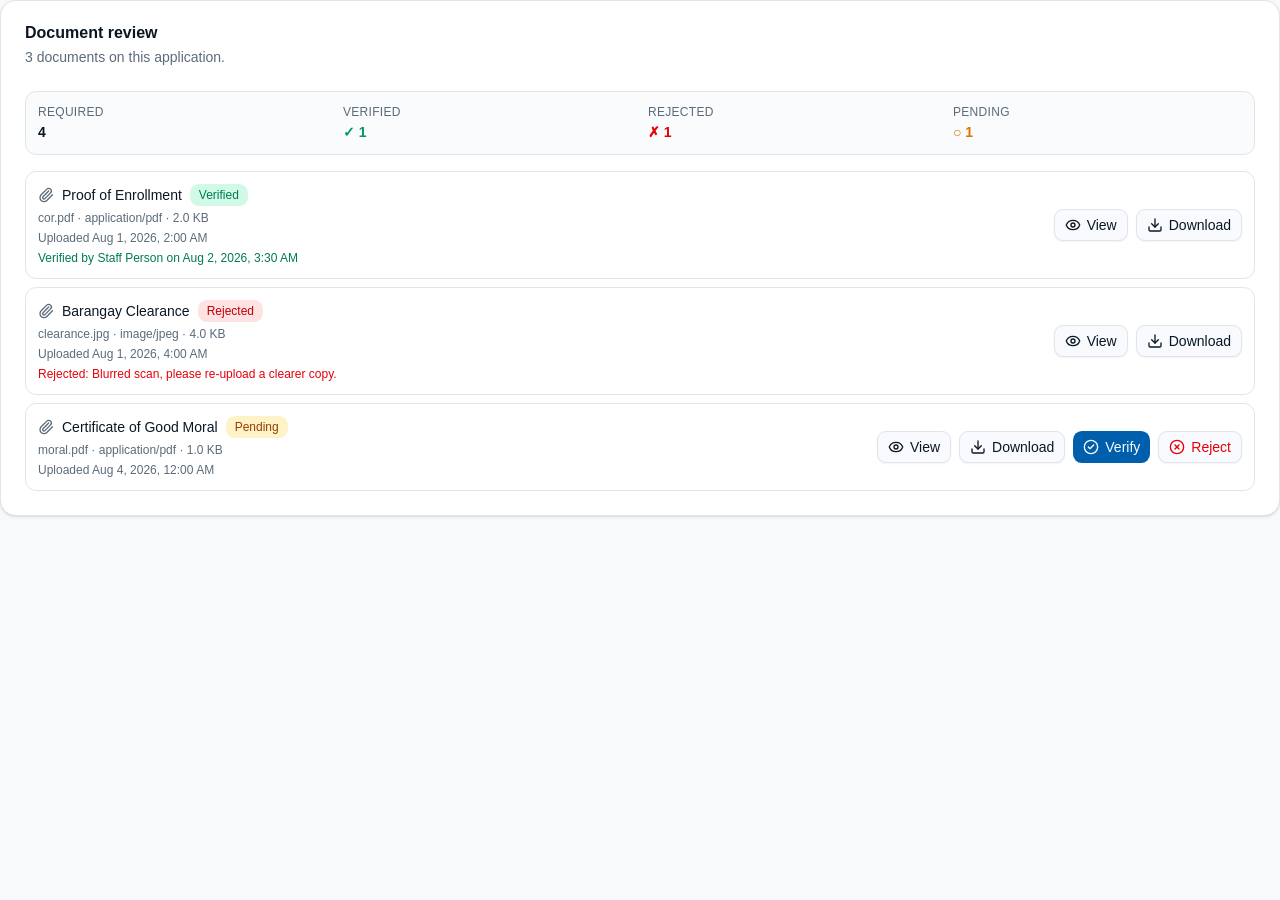
DocumentReview › verify flow › shows a failure message when the API errors
The image size is (1280, 900).
Click the button "Verify" at (1112,447), box 1073,431 -> 1150,463
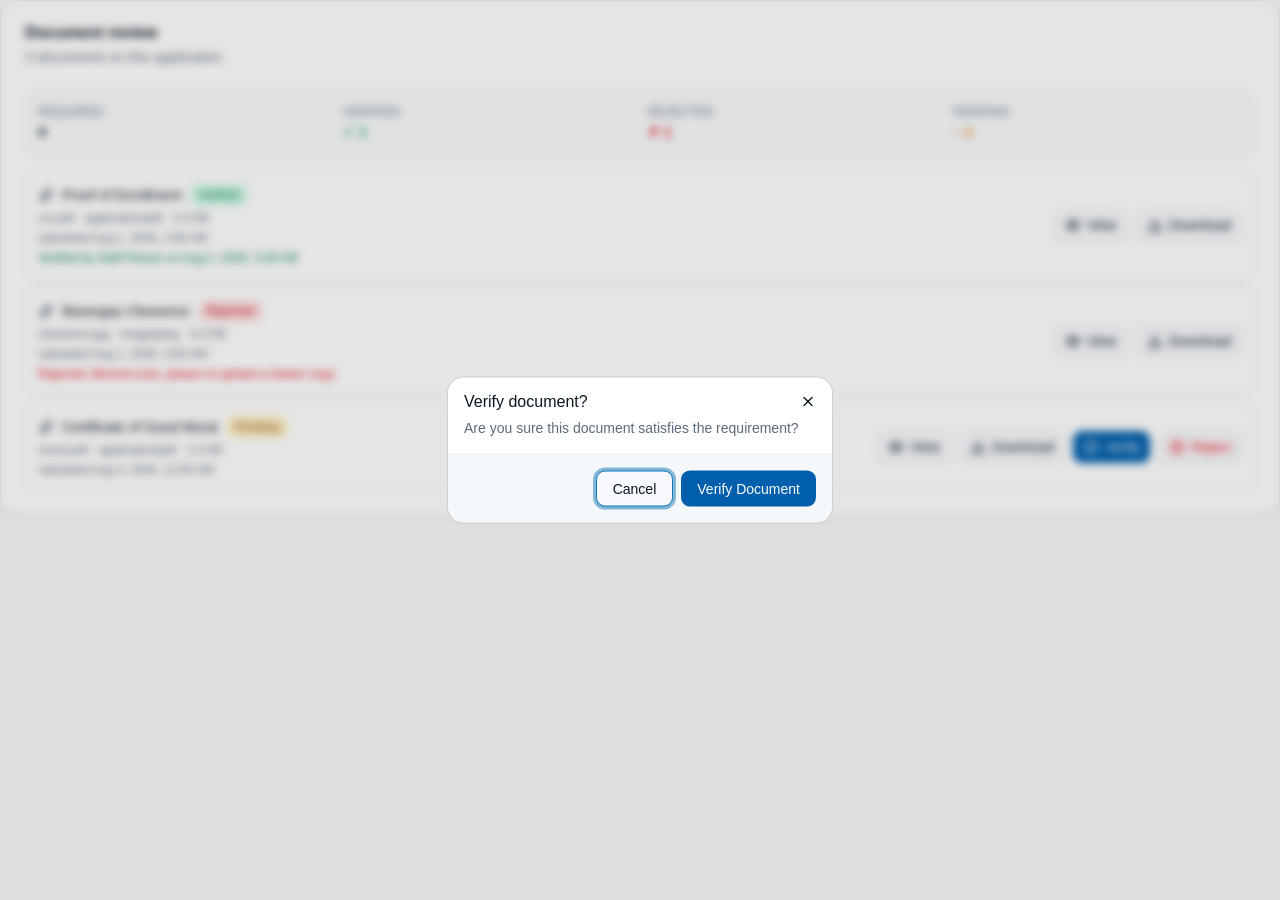
Click the button "Verify Document" at (749,488), box 681,470 -> 816,506
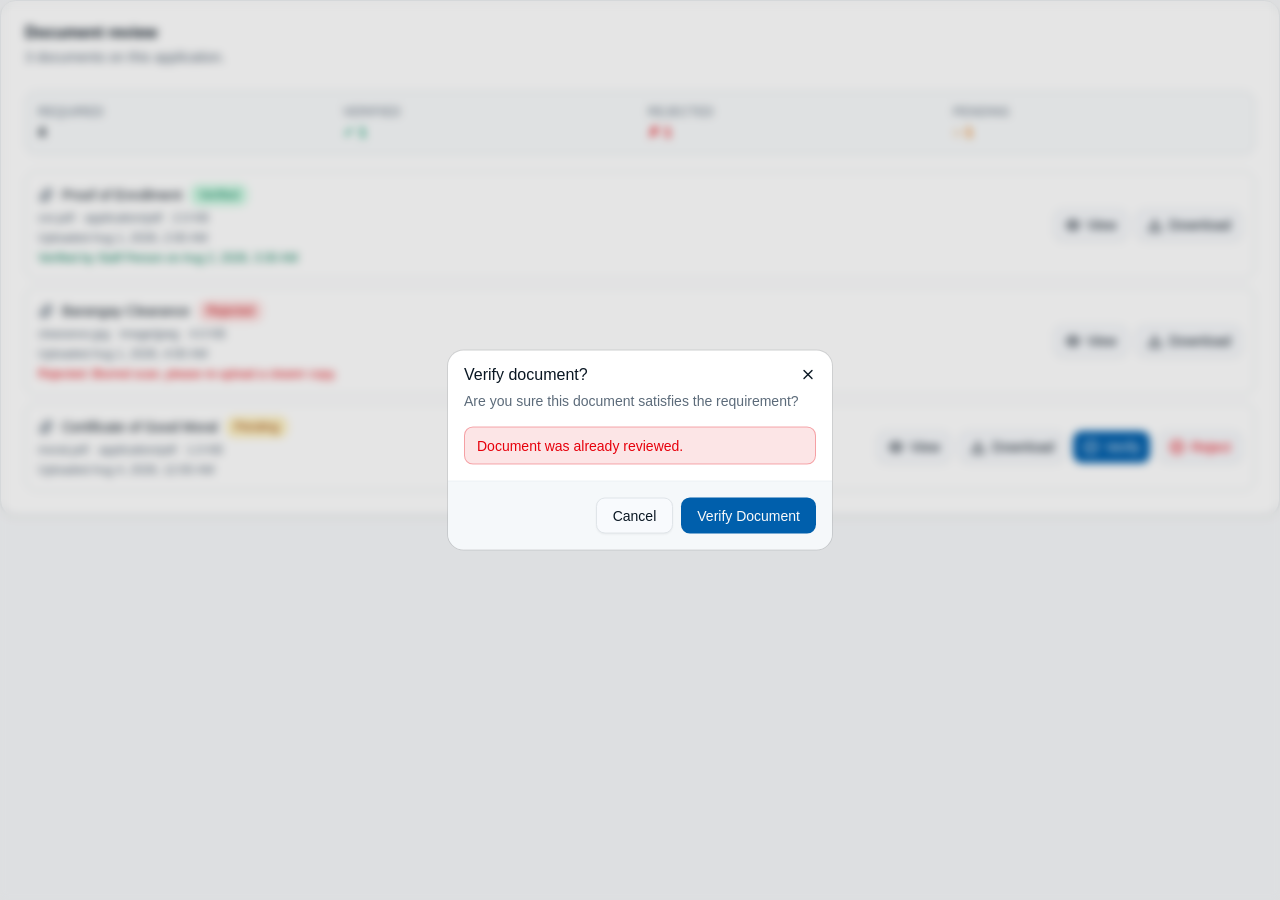
Now the dialog is shown, box 448,350 -> 832,550
Now the message reads "Document was already reviewed.", box 477,438 -> 683,454
